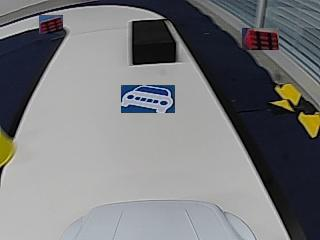block: (131, 18, 176, 64)
